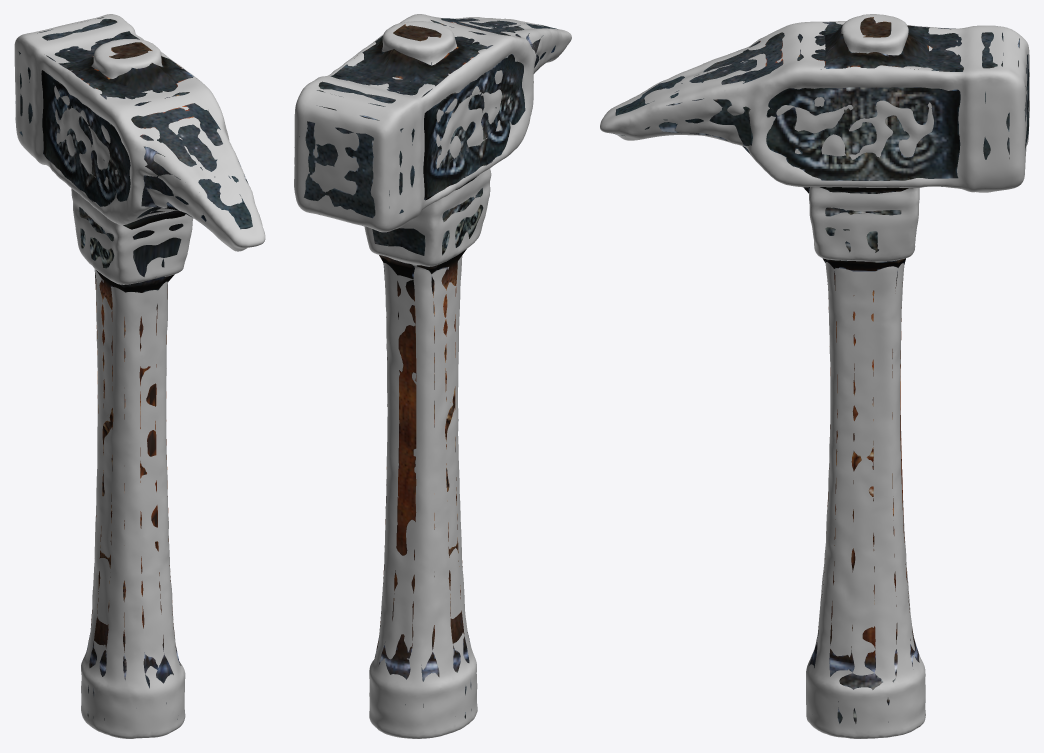
File: hammer.fbx
3 renders of one model, left to right at view 1: azimuth 30°, elevation 25°; view 2: azimuth 150°, elevation 25°; view 3: azimuth 270°, elevation 25°, orthographic. The views are drawn at different scales.
Parts seen in each view (by area): view 1: hp, lp; view 2: hp, lp; view 3: hp, lp.
Part boxes in pixels (x1,y1,x2,y2): hp: (14,14,265,738); lp: (15,17,252,720); hp: (294,14,571,738); lp: (299,18,557,718); hp: (600,14,1029,738); lp: (613,17,1028,723).
Size of the model in its own units: 30.88 by 180 by 101.
